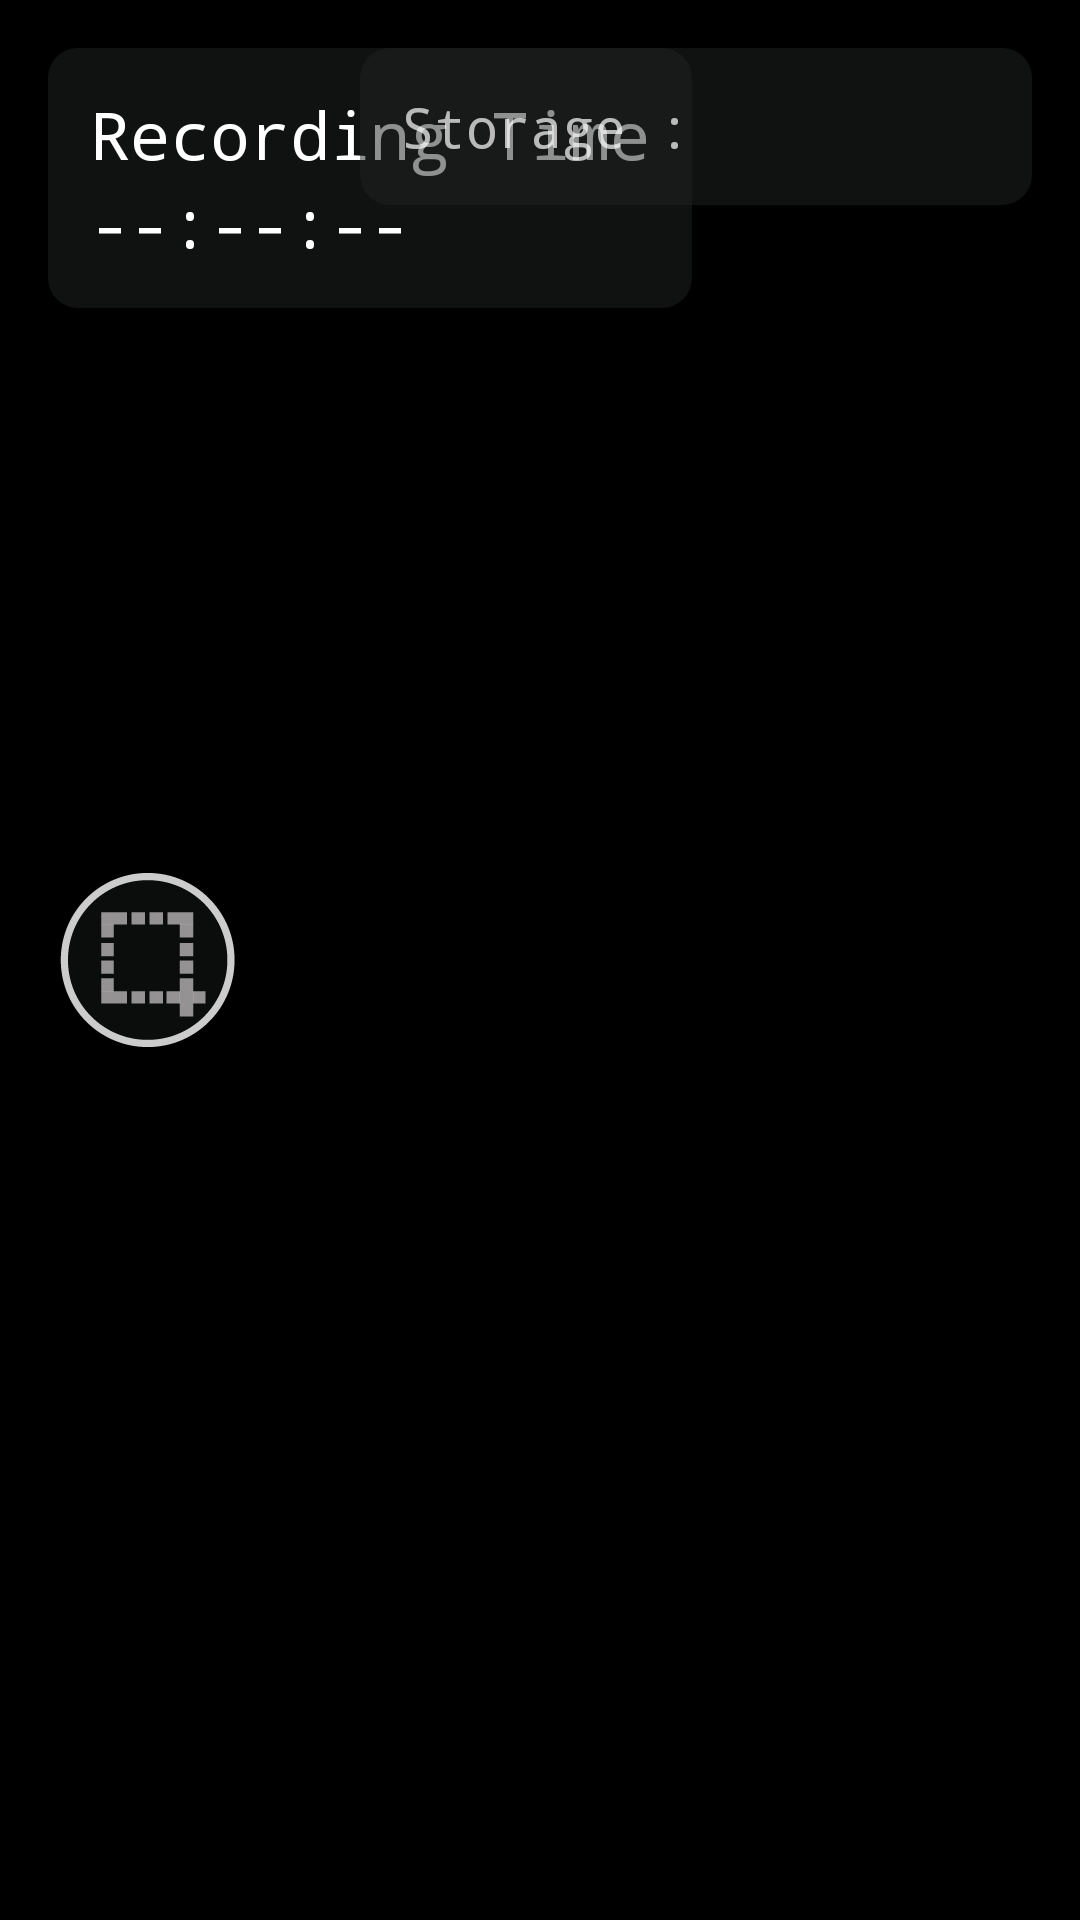

Where to tap for icons on this 1080*1920 app screen, as (x=x, y=y):
snapshot: (x=147, y=960)
